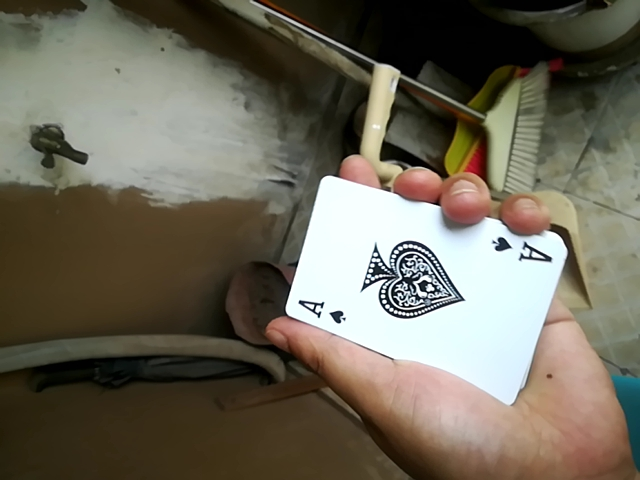ht a: (274, 175, 546, 403)
